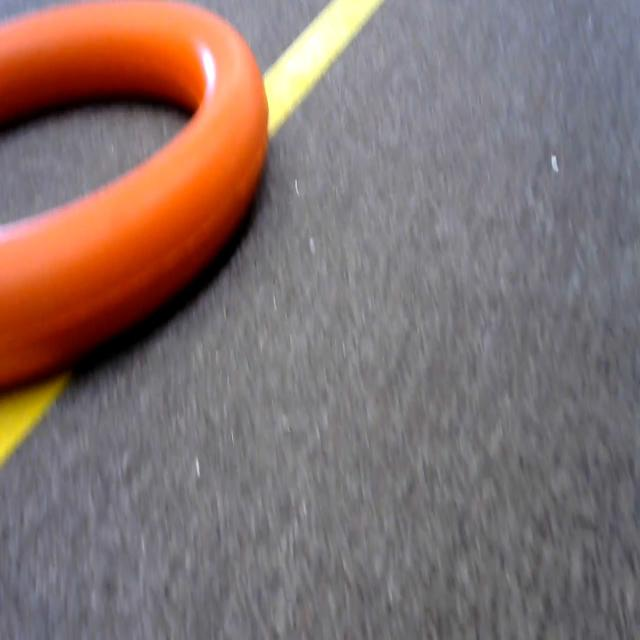note: (0, 0, 279, 390)
